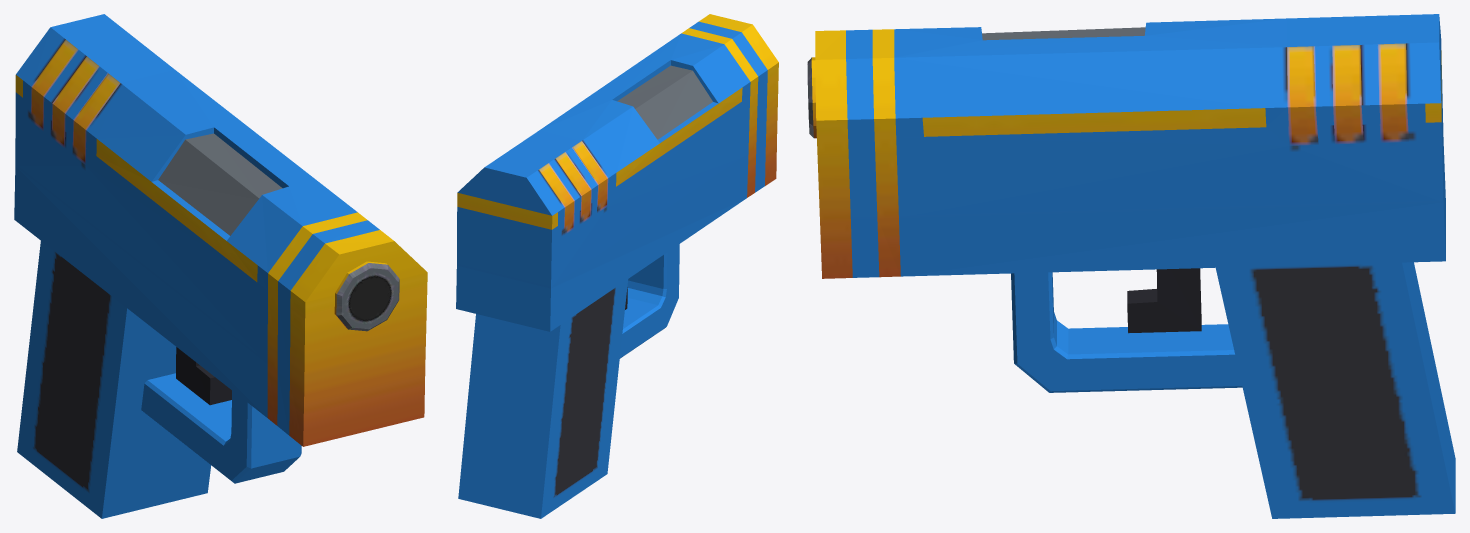
Rendered from original-pistol.glb.
3 renders of one model, left to right at view 1: azimuth 30°, elevation 25°; view 2: azimuth 150°, elevation 25°; view 3: azimuth 270°, elevation 25°, orthographic. The views are drawn at different scales.
Parts seen in each view (by area): view 1: Pistol; view 2: Pistol; view 3: Pistol.
Boxes of the visible parts, x1,y1,x2,y2 form: Pistol: (14, 14, 427, 518); Pistol: (456, 14, 778, 518); Pistol: (807, 14, 1455, 518).
Bounding box in the file's own units: 0.0773 × 0.2569 × 0.326.
1 material, 1 textured.
